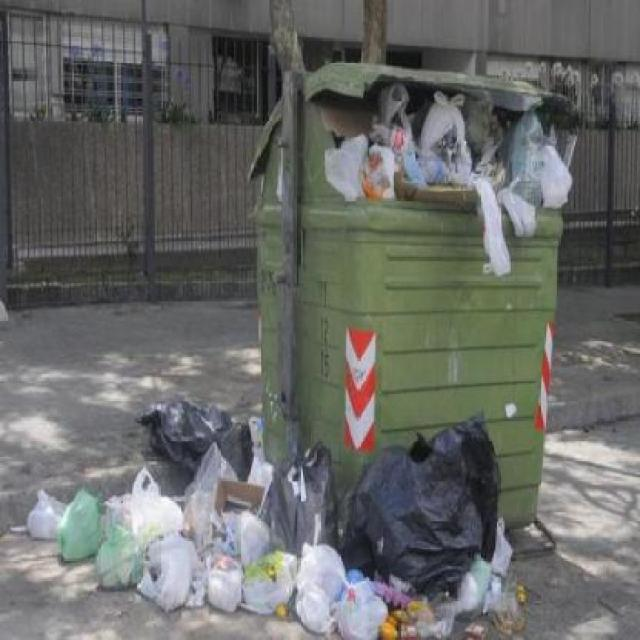garbage: (33, 463, 532, 638), (311, 86, 581, 260), (140, 397, 350, 490)
